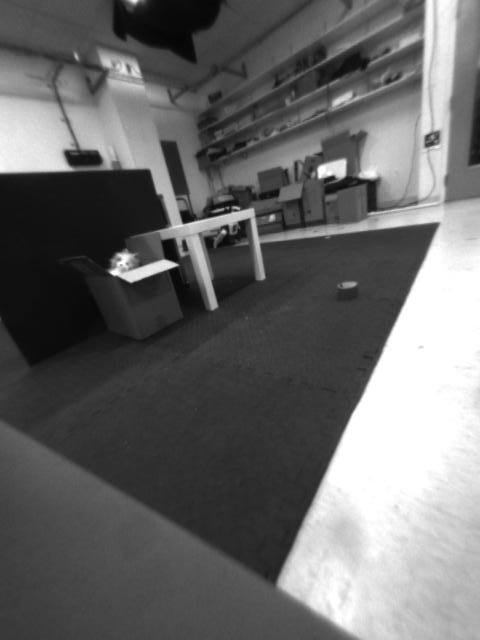dogtoy: (327, 276, 370, 303)
